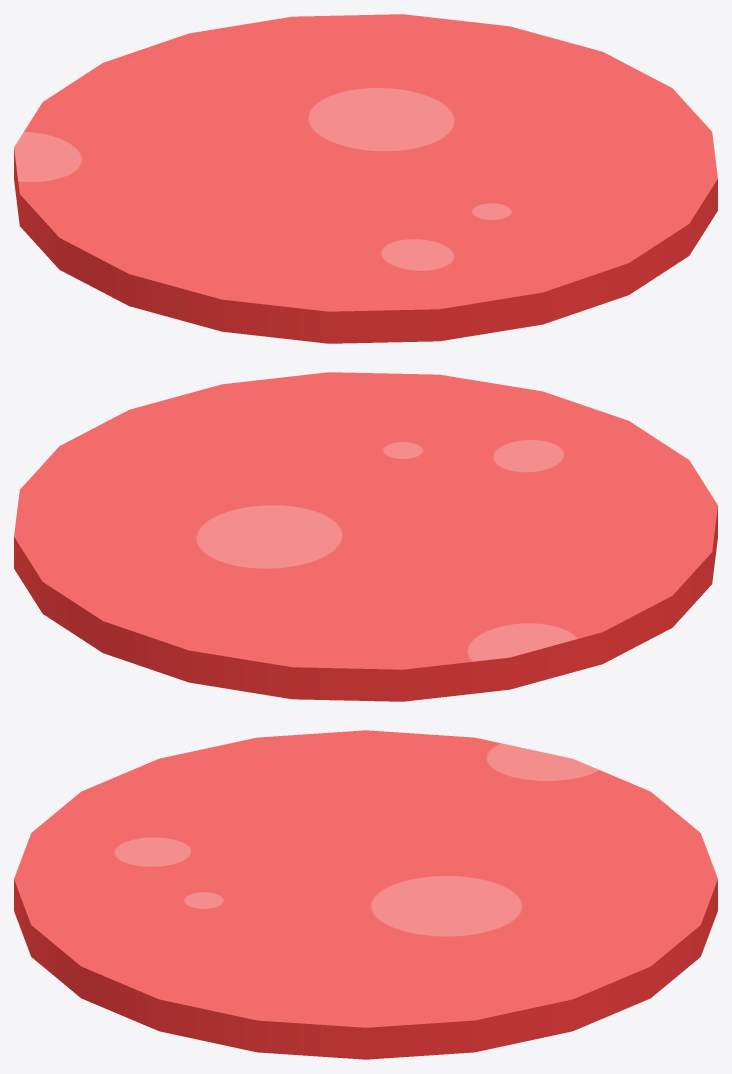
Rendered from Ham_Slice_Ham_0.glb.
3 renders of one model, top to bottom at view 1: azimuth 30°, elevation 25°; view 2: azimuth 150°, elevation 25°; view 3: azimuth 270°, elevation 25°, orthographic.
Parts seen in each view (by area): view 1: Ham_Slice_Ham_0; view 2: Ham_Slice_Ham_0; view 3: Ham_Slice_Ham_0.
Boxes of the visible parts, x1,y1,x2,y2 form: Ham_Slice_Ham_0: (14, 14, 717, 343); Ham_Slice_Ham_0: (14, 372, 717, 701); Ham_Slice_Ham_0: (14, 730, 717, 1059).
Bounding box in the file's own units: 0.2 × 0.01 × 0.2.
1 material, 1 textured.
